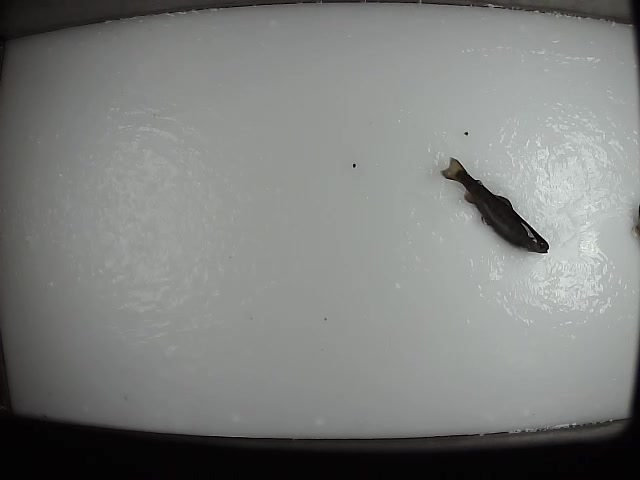fish: (434, 154, 552, 253)
